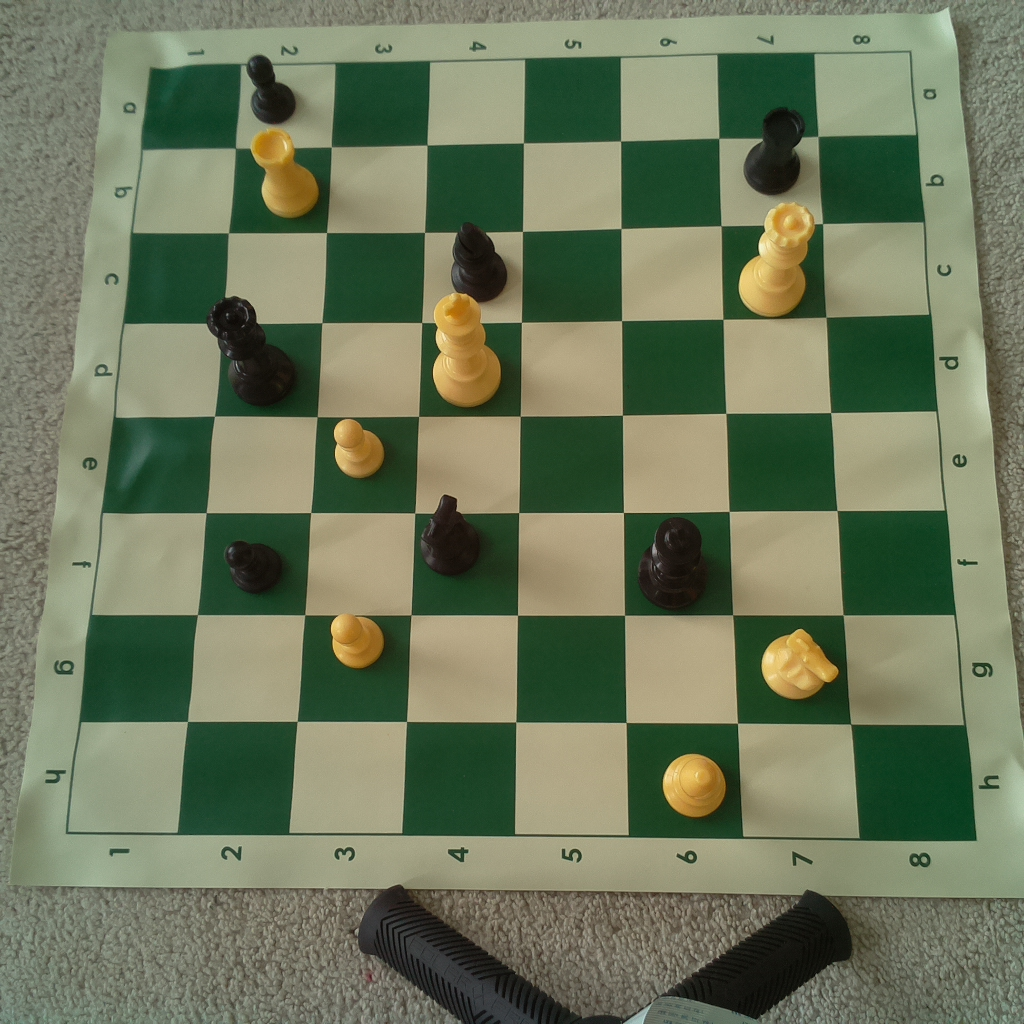black_bishop: (449, 221, 510, 304)
black_king: (634, 512, 714, 610)
black_knight: (414, 488, 484, 578)
black_pawn: (244, 47, 302, 125), (221, 535, 288, 599)
black_queen: (202, 296, 298, 405)
black_rook: (740, 104, 811, 201)
file_a: (140, 52, 916, 148)
file_b: (133, 136, 927, 238)
file_c: (121, 223, 931, 323)
file_d: (112, 315, 936, 418)
file_e: (101, 410, 946, 512)
file_f: (92, 508, 957, 617)
file_g: (80, 617, 966, 727)
file_h: (66, 723, 976, 840)
outline: (68, 52, 973, 841)
rank_1: (67, 65, 242, 833)
rank_2: (176, 65, 336, 838)
rank_3: (289, 61, 431, 834)
rank_4: (399, 62, 525, 834)
rank_5: (512, 60, 632, 834)
rank_6: (619, 54, 744, 839)
rank_7: (716, 54, 862, 835)
rank_8: (815, 52, 975, 841)
white_bishop: (658, 751, 733, 826)
white_king: (429, 291, 503, 412)
white_knight: (759, 625, 844, 706)
white_pawn: (327, 412, 388, 482), (327, 608, 389, 671)
white_queen: (734, 200, 819, 322)
white_rook: (237, 119, 323, 219)
